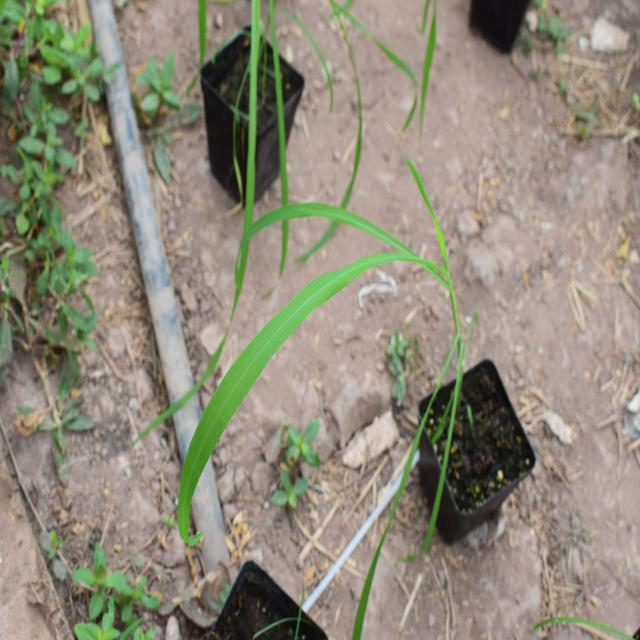barnyard_grass: (136, 170, 476, 517)
